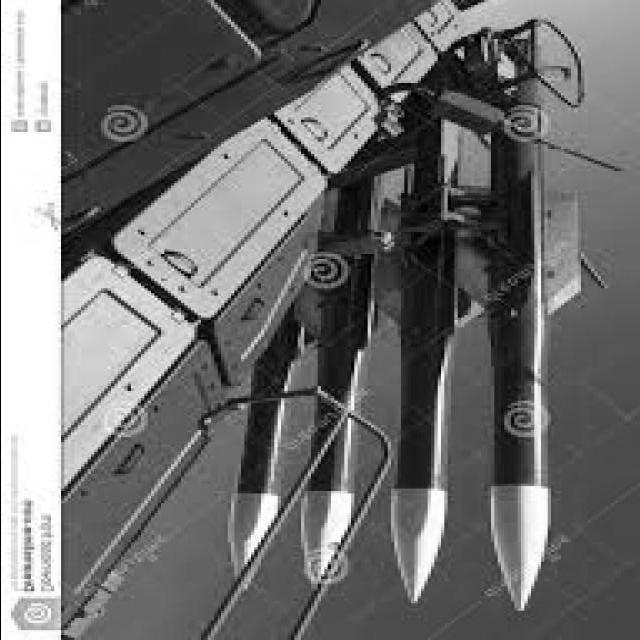Missile: (482, 135, 558, 618), (389, 170, 452, 604)
